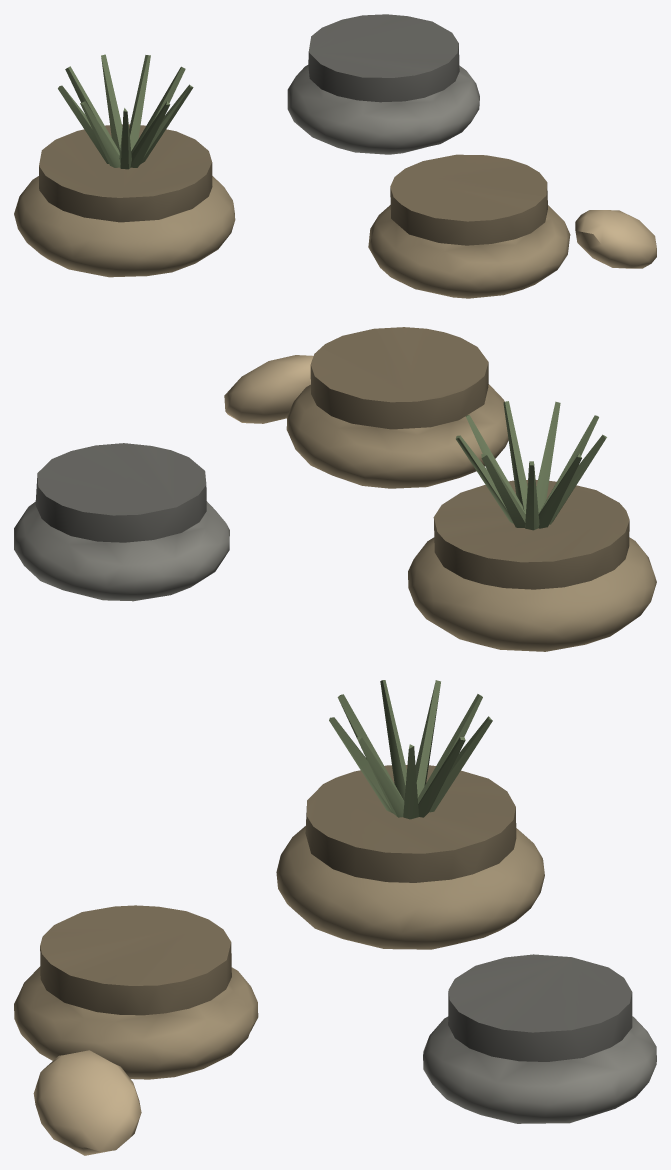
File: dish_stones_c_lod1.glb
3 renders of one model, top to bottom at view 1: azimuth 30°, elevation 25°; view 2: azimuth 150°, elevation 25°; view 3: azimuth 270°, elevation 25°, orthographic. The views are drawn at different scales.
Parts seen in each view (by area): view 1: Surface.001; view 2: Surface.001; view 3: Surface.001.
Part boxes in pixels (x1,y1,x2,y2): Surface.001: (14, 14, 656, 298); Surface.001: (14, 327, 656, 651); Surface.001: (14, 680, 656, 1155).
Size of the model in its own units: 2.14 by 0.737 by 1.99.
